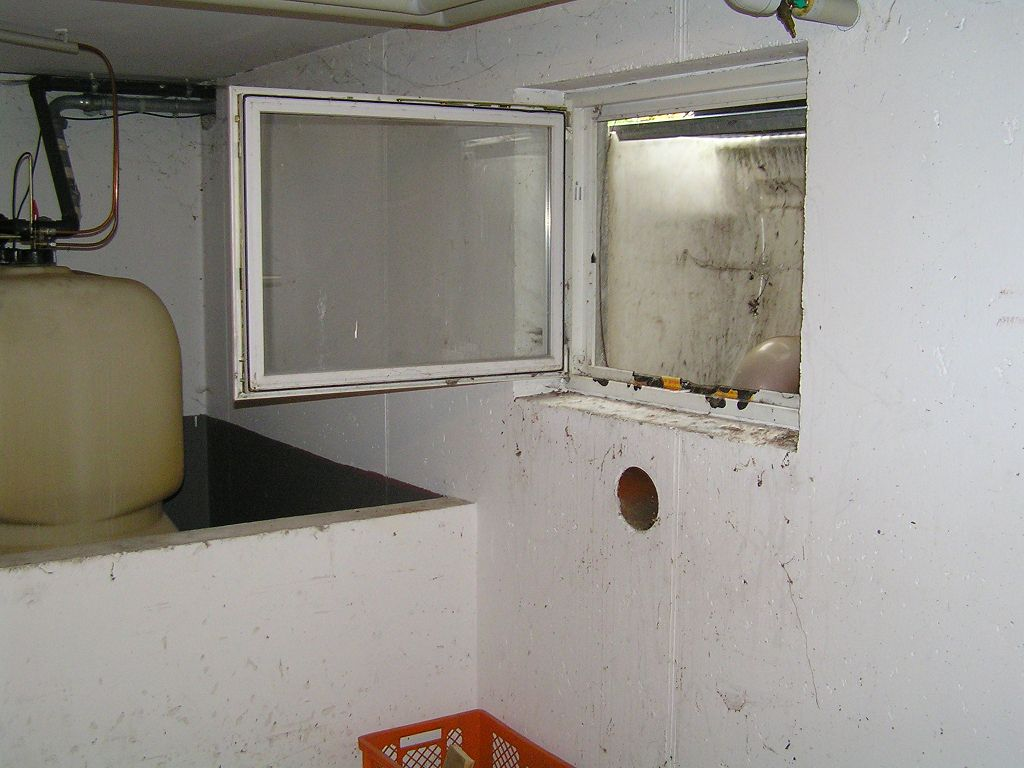windows: (232, 90, 576, 396), (575, 396, 576, 403)
